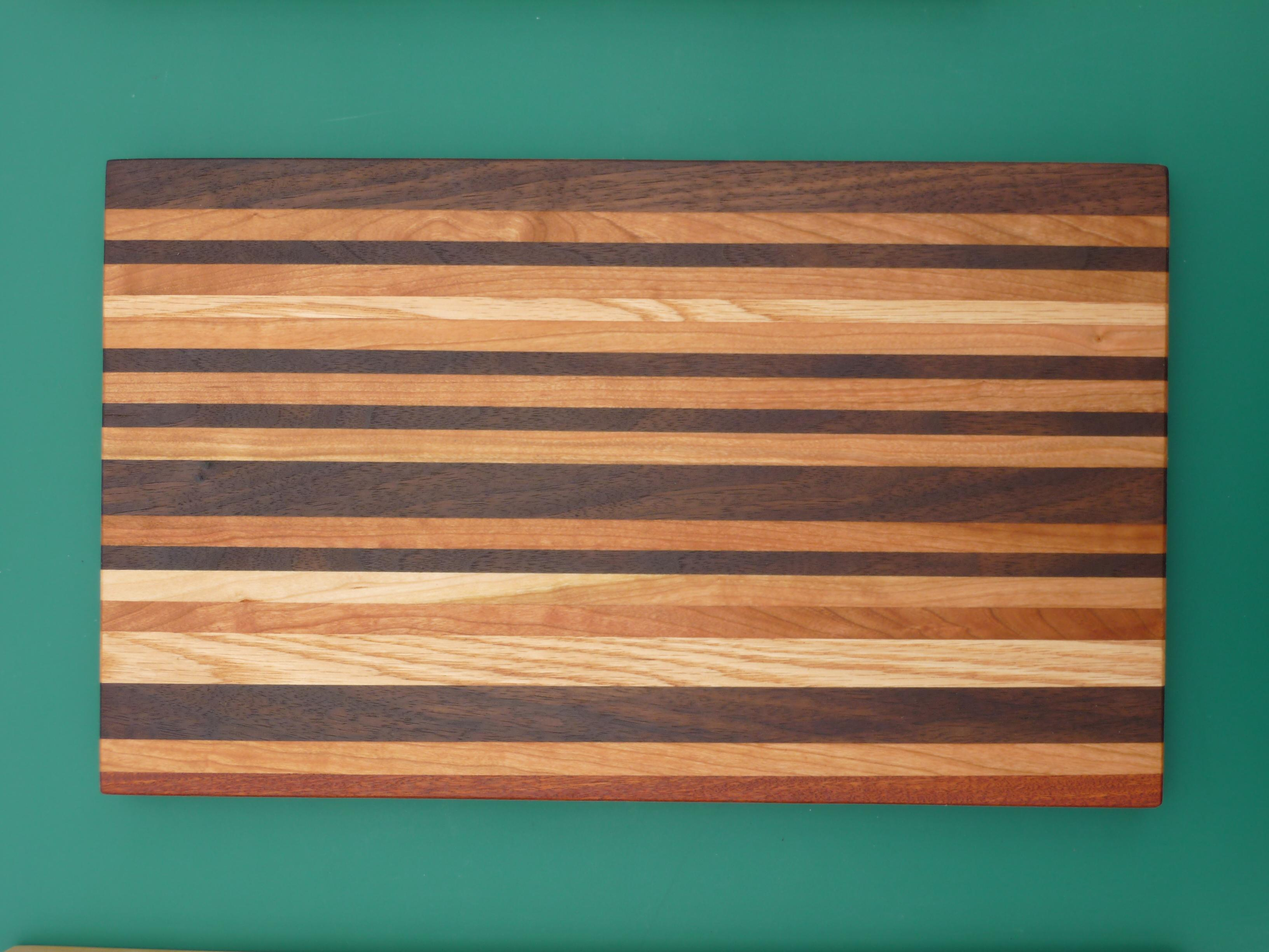gloved_hand: (84, 142, 1196, 826)
